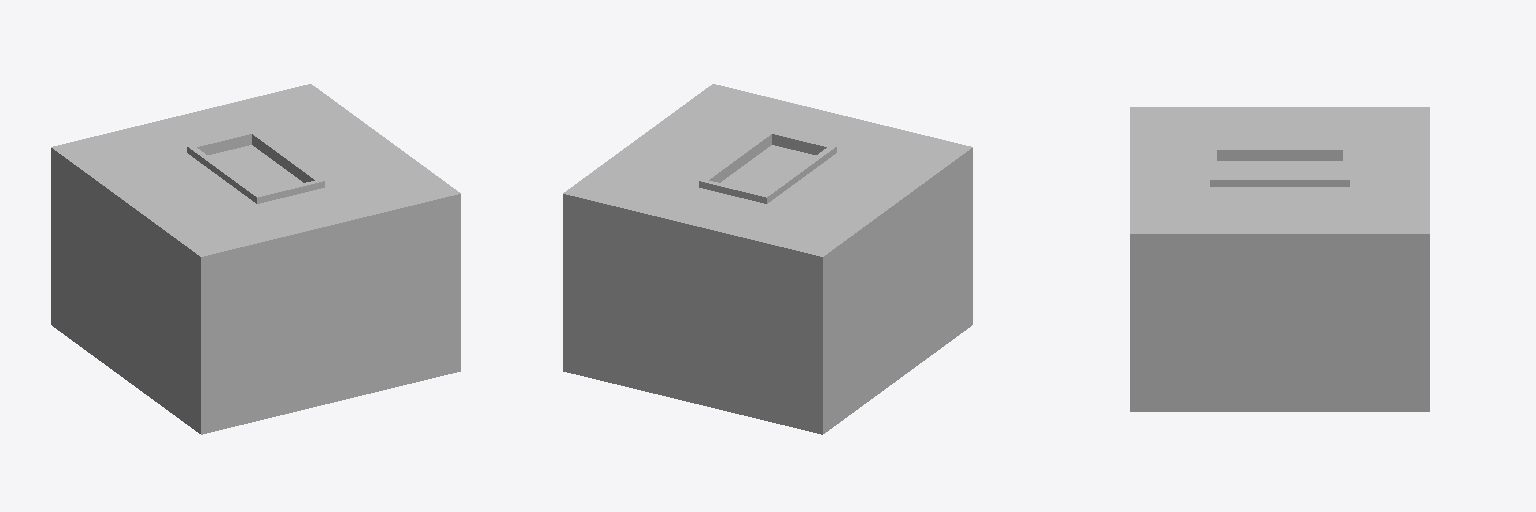
The model's file is PanelMainBraker.obj.
The picture shows the model from 3 angles: view 1: azimuth 30°, elevation 25°; view 2: azimuth 150°, elevation 25°; view 3: azimuth 270°, elevation 25°; orthographic projection.
Visible parts, largest first — view 1: Cube.008_Cube.010; view 2: Cube.008_Cube.010; view 3: Cube.008_Cube.010.
Boxes of the visible parts, x1=… form: Cube.008_Cube.010: x1=51, y1=84, x2=460, y2=434; Cube.008_Cube.010: x1=563, y1=84, x2=972, y2=434; Cube.008_Cube.010: x1=1130, y1=107, x2=1429, y2=411.
Bounding box in the file's own units: 0.5729 × 0.3878 × 0.5729.